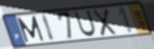1: (118, 6, 133, 34)
7: (55, 11, 75, 42)
I: (41, 13, 57, 42)
M: (16, 15, 46, 44)
U: (74, 10, 98, 38)
X: (91, 8, 118, 37)
